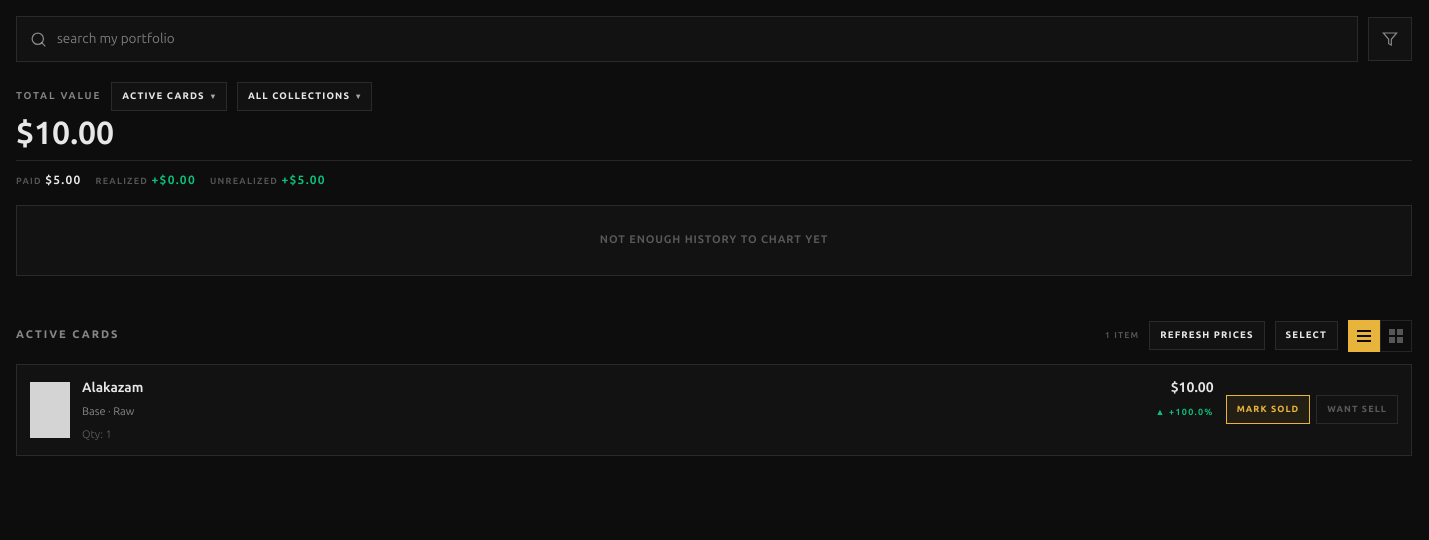
Scenario: the bulk-action bar reserves its space in select mode so selecting never shifts the list
Expected: the text "Alakazam" is shown, [82,379,143,396]
Note: Enter Select mode: bar is present (reserving space) but hidden from a11y.
Click the button "Select" at (1306, 336), box [1275,322,1338,350]
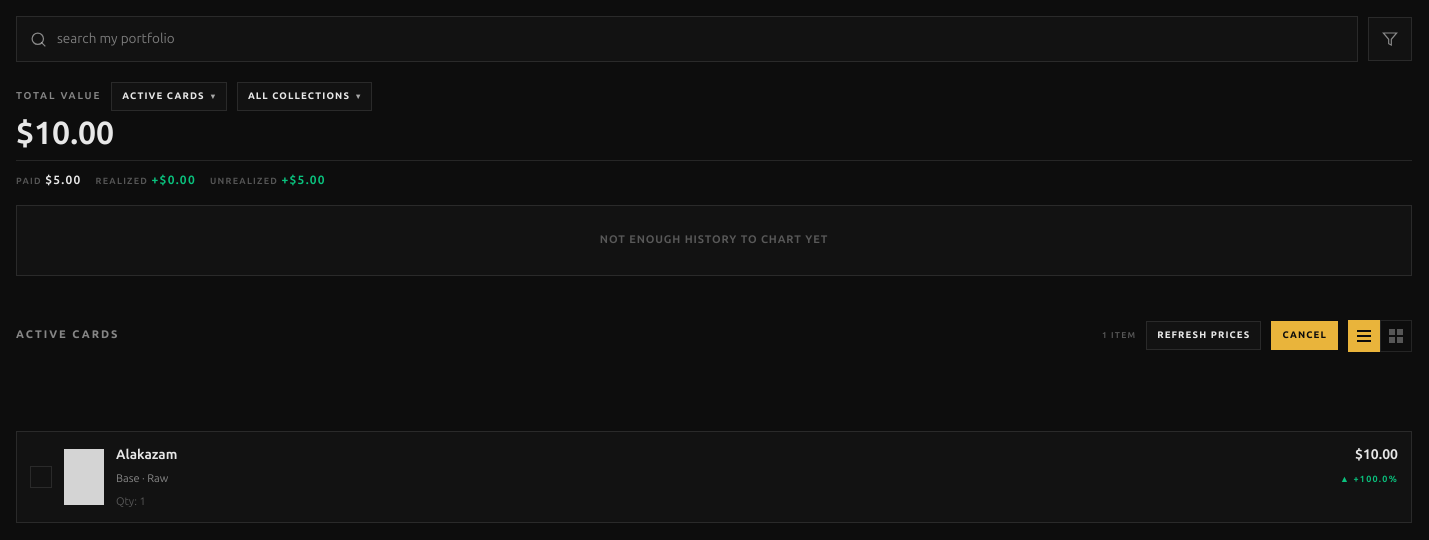
Click the button "Alakazam" at (84, 477), box [16,431,1412,523]
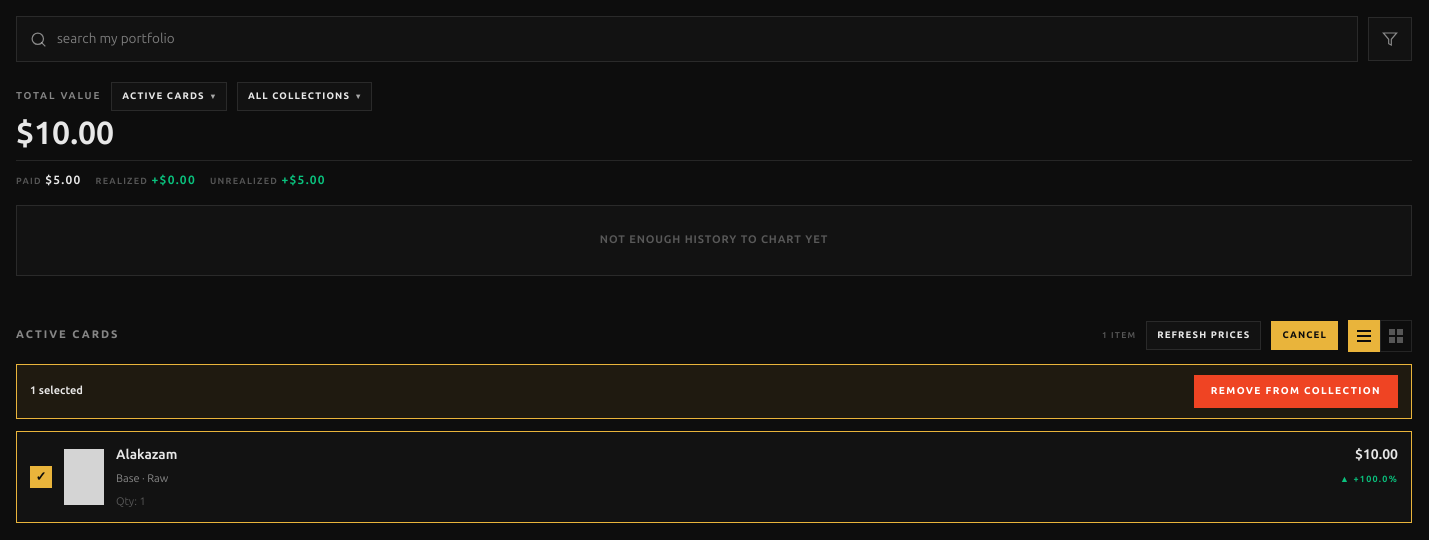
Expected: the number of elements with test id "bulk-bar" is 1, [16,364,1412,419]
Expected: the text "1 selected" is shown, [30,383,83,399]
Expected: the button "Remove from collection" is shown, [1194,375,1398,408]
